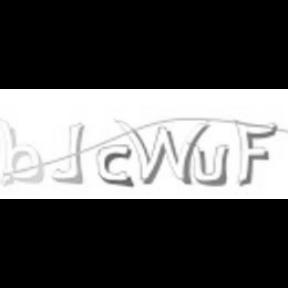F: (234, 116, 278, 188)
J: (50, 120, 88, 184)
W: (114, 116, 210, 186)
b: (1, 118, 42, 188)
c: (94, 145, 132, 187)
u: (192, 144, 232, 188)
